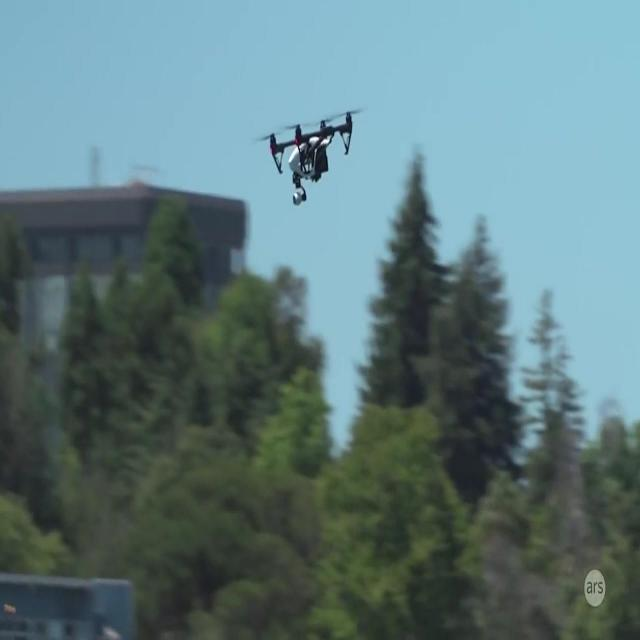UAV: (256, 108, 366, 206)
